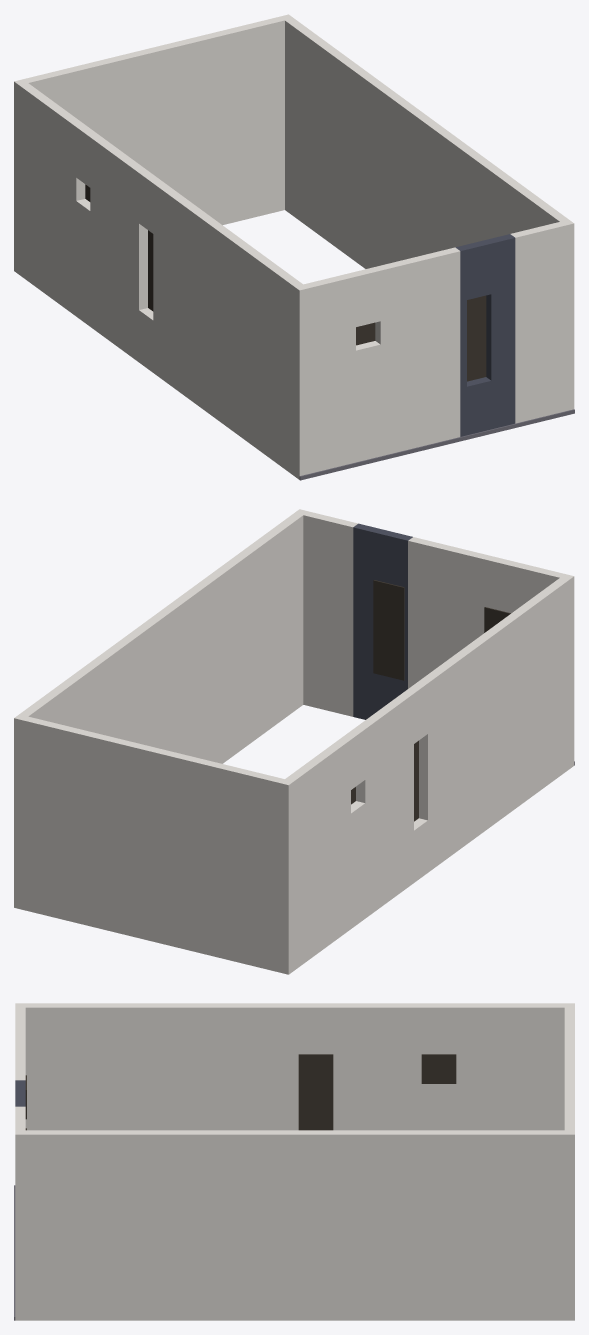
Rendered from SM_Floor_NarrowUpperScatterHighEndL_White_455_01.gltf.
3 renders of one model, top to bottom at view 1: azimuth 30°, elevation 25°; view 2: azimuth 150°, elevation 25°; view 3: azimuth 270°, elevation 25°, orthographic. The views are drawn at different scales.
Visible parts, largest first — view 1: SM_Floor_NarrowUpperScatterHighEndL_White_455_01; view 2: SM_Floor_NarrowUpperScatterHighEndL_White_455_01; view 3: SM_Floor_NarrowUpperScatterHighEndL_White_455_01.
Part boxes in pixels (<box>): SM_Floor_NarrowUpperScatterHighEndL_White_455_01: <box>14,14,574,480</box>; SM_Floor_NarrowUpperScatterHighEndL_White_455_01: <box>14,509,574,974</box>; SM_Floor_NarrowUpperScatterHighEndL_White_455_01: <box>14,1003,574,1320</box>.
Size of the model in its own units: 4.55 by 3 by 8.21.
Materials: 1 (1 with a texture image).
